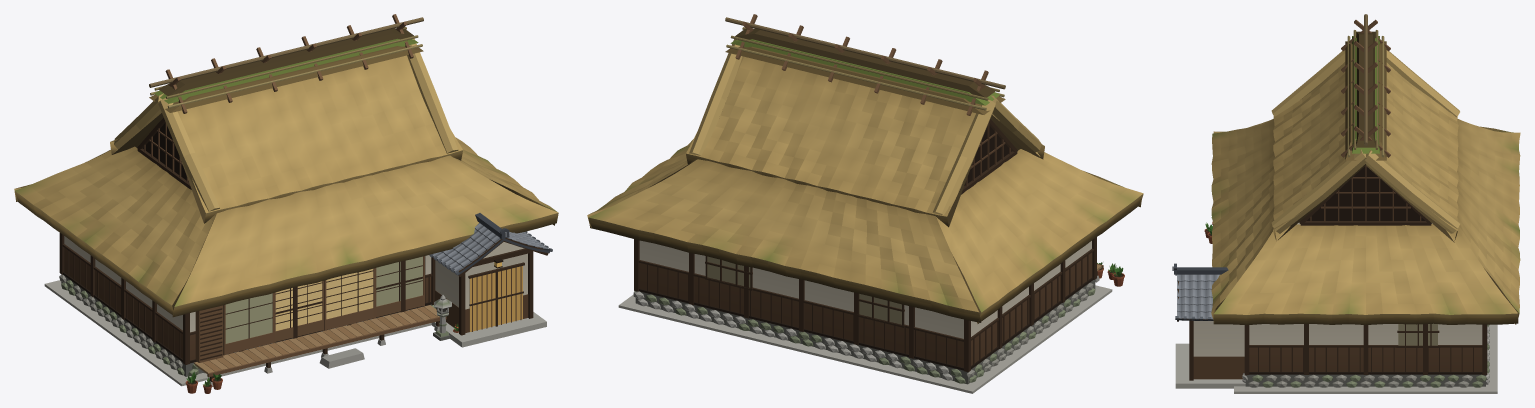
The model's file is minka_thatch.glb.
The picture shows the model from 3 angles, left to right: view 1: azimuth 30°, elevation 25°; view 2: azimuth 150°, elevation 25°; view 3: azimuth 270°, elevation 25°; orthographic projection. The views are drawn at different scales.
Parts seen in each view (by area): view 1: minka_thatch; view 2: minka_thatch; view 3: minka_thatch.
Boxes of the visible parts, x1,y1,x2,y2 form: minka_thatch: (14, 14, 558, 393); minka_thatch: (587, 14, 1143, 393); minka_thatch: (1172, 14, 1520, 393).
Size of the model in its own units: 14.12 by 8.65 by 11.42.
